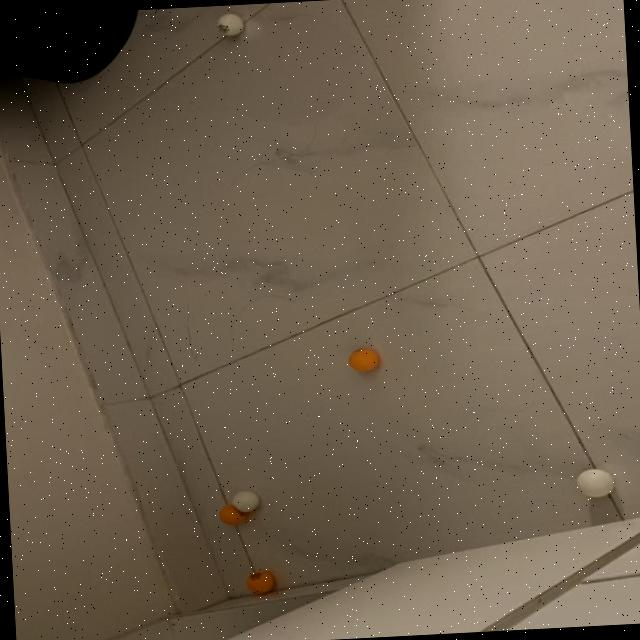ping-pong-ball: (574, 466, 616, 499), (346, 346, 382, 374), (243, 567, 276, 595), (213, 10, 246, 36), (231, 486, 262, 512), (218, 502, 250, 526)
